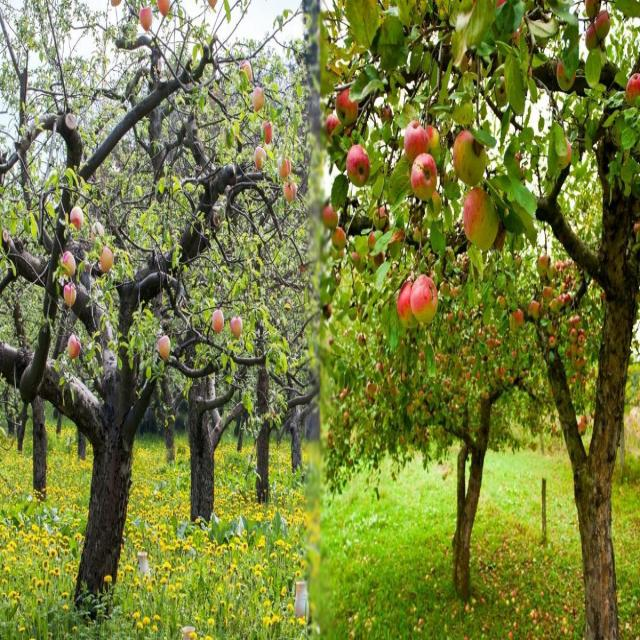peach: (38, 7, 269, 382)
